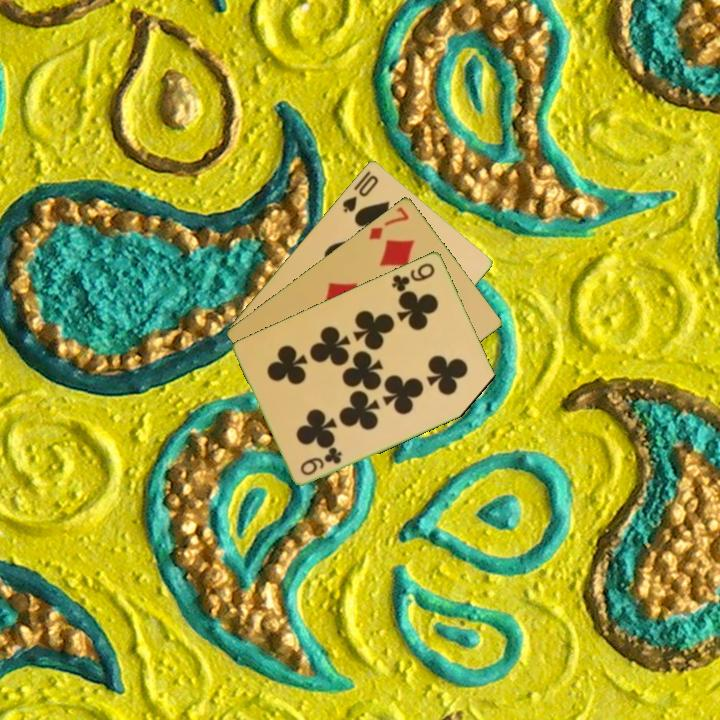10s: (339, 171, 381, 215)
7d: (365, 203, 412, 242)
9c: (388, 259, 438, 295), (297, 444, 345, 478)
